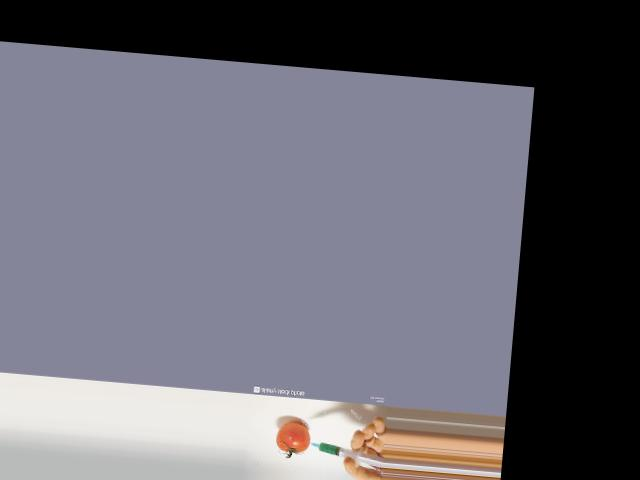tomato: (276, 420, 312, 453)
